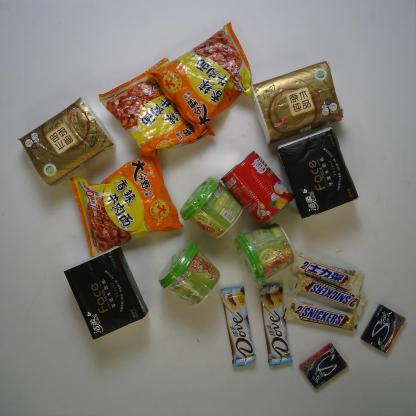Canned Food: (220, 149, 295, 227)
Chocolate: (293, 249, 365, 296), (219, 284, 256, 370), (256, 285, 293, 370), (281, 292, 351, 331), (306, 274, 358, 314)
Gum: (361, 304, 406, 356), (300, 343, 348, 382)
Instant Drink: (180, 176, 245, 240), (158, 242, 221, 307), (236, 224, 296, 285)
Instant Noodles: (144, 20, 253, 136), (70, 152, 184, 259), (97, 55, 217, 156)
Tissue: (18, 96, 116, 188), (62, 244, 150, 342), (250, 61, 344, 145), (278, 127, 360, 220)
